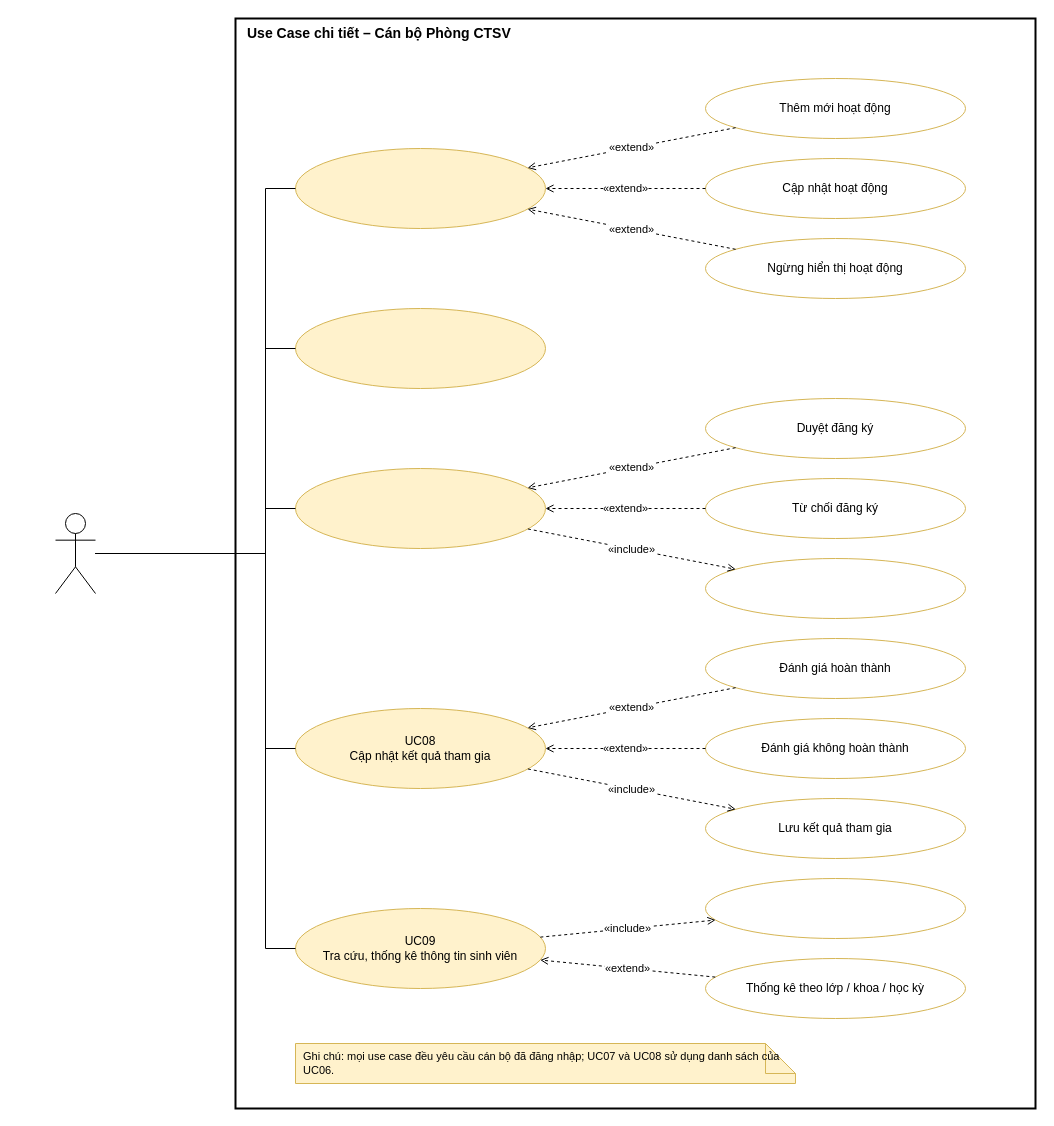
Image size: 1054x1126. Some labels were removed from this diagram. The box of each missing label's shape, as (x1, y1, x2, y2) in pixels:
Cán bộ Phòng Công tác Sinh viên: (54, 512, 96, 594)
Cập nhật trạng thái đăng ký: (704, 558, 966, 618)
Tra cứu lịch sử tham gia: (704, 878, 966, 938)
UC05 Quản lý hoạt động công tác xã hội: (294, 148, 546, 228)
UC06 Xem danh sách đăng ký: (294, 308, 546, 388)
UC07 Xét duyệt đăng ký: (294, 468, 546, 548)
